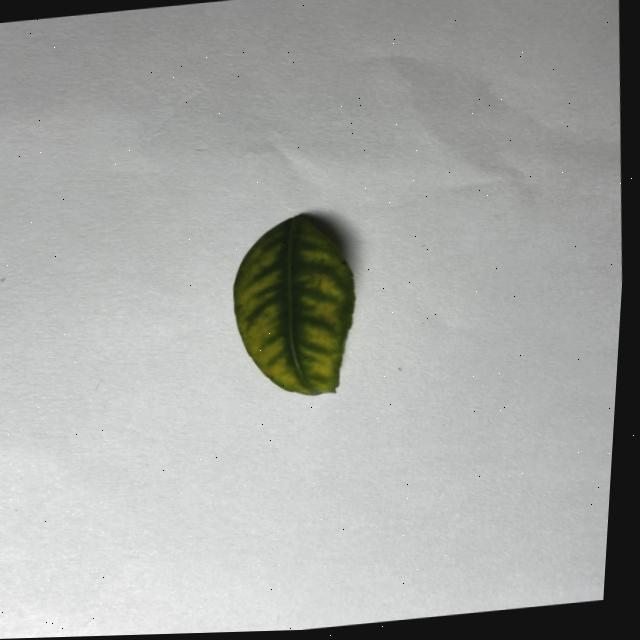greening: (233, 215, 353, 394)
